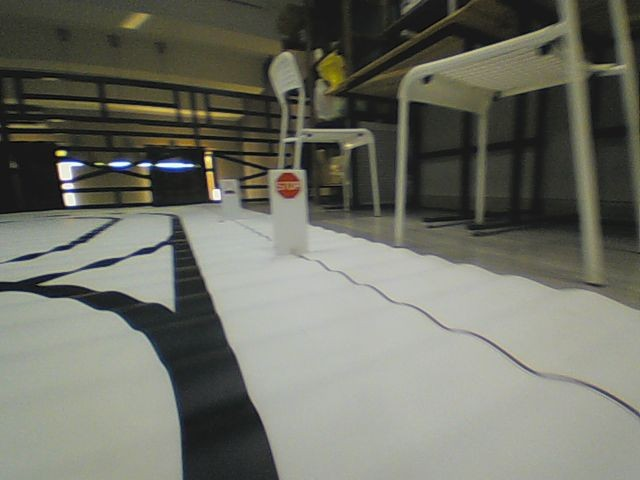Stop: (274, 172, 301, 199)
